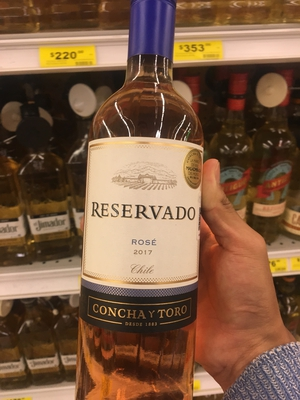reservado rose: (76, 12, 199, 400)
